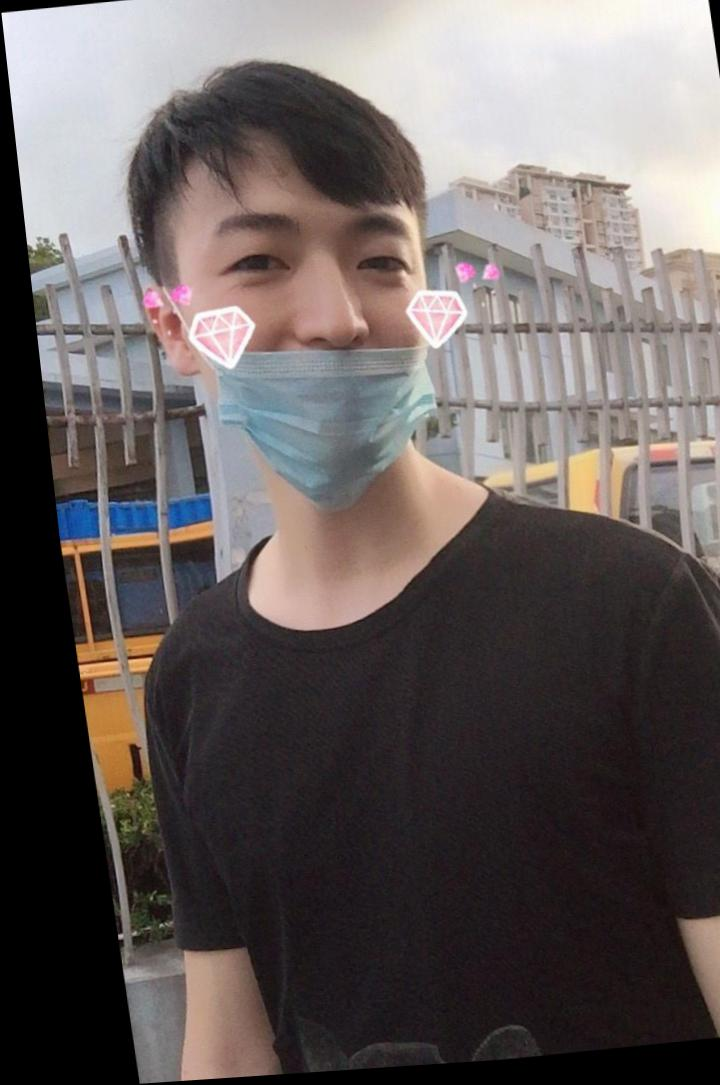WRONG: (169, 175, 449, 503)
